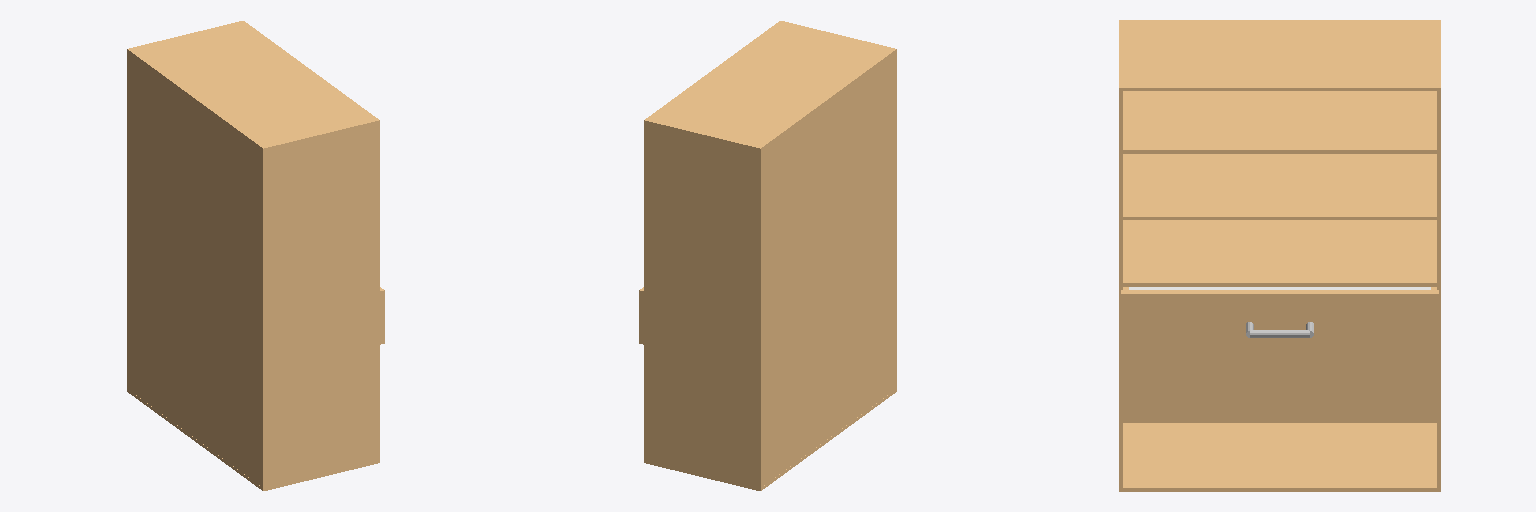
URDF robot description (room610-shelf2-1-robot):
<?xml version="1.0"?>
<robot name="room610-shelf2-1-robot"
       xmlns:xi="http://www.w3.org/2001/XInclude"
       >
  <gazebo>
    <static>false</static>
  </gazebo>
  <link name="ROOT_link">
    <visual>
      <origin xyz="0 0 0" rpy="0 -0 0"/>
      <geometry>
        <mesh filename="model://room610-shelf2-1/meshes/ROOT_link_mesh.dae" scale="1 1 1" />
      </geometry>
    </visual>
    <collision>
      <origin xyz="0 0 0" rpy="0 -0 0"/>
      <geometry>
        <mesh filename="model://room610-shelf2-1/meshes/ROOT_link_mesh.dae" scale="1 1 1" />
      </geometry>
    </collision>
    <inertial>
      <mass value="0.001" />
      <origin xyz="0 0 0" rpy="0 -0 0"/>
      <inertia ixx="1e-03" ixy="0" ixz="0" iyy="1e-03" iyz="0" izz="1e-03"/>
    </inertial>
  </link>
  <gazebo reference="ROOT_link">
    <mu1>0.9</mu1>
    <mu2>0.9</mu2>
  </gazebo>
  <link name="SHELF2-BODYSET6_link">
    <visual>
      <origin xyz="0.0055 0 0.175" rpy="0 -0 0"/>
      <geometry>
        <mesh filename="model://room610-shelf2-1/meshes/SHELF2-BODYSET6_link_mesh.dae" scale="1 1 1" />
      </geometry>
    </visual>
    <collision>
      <origin xyz="0.0055 0 0.175" rpy="0 -0 0"/>
      <geometry>
        <mesh filename="model://room610-shelf2-1/meshes/SHELF2-BODYSET6_link_mesh.dae" scale="1 1 1" />
      </geometry>
    </collision>
    <inertial>
      <mass value="0.001" />
      <origin xyz="0 0 0" rpy="0 -0 0"/>
      <inertia ixx="1e-03" ixy="0" ixz="0" iyy="1e-03" iyz="0" izz="1e-03"/>
    </inertial>
  </link>
  <gazebo reference="SHELF2-BODYSET6_link">
    <mu1>0.9</mu1>
    <mu2>0.9</mu2>
  </gazebo>
  <link name="SHELF2-BODYSET5_link">
    <visual>
      <origin xyz="0.0055 0 0.45625" rpy="0 -0 0"/>
      <geometry>
        <mesh filename="model://room610-shelf2-1/meshes/SHELF2-BODYSET5_link_mesh.dae" scale="1 1 1" />
      </geometry>
    </visual>
    <collision>
      <origin xyz="0.0055 0 0.45625" rpy="0 -0 0"/>
      <geometry>
        <mesh filename="model://room610-shelf2-1/meshes/SHELF2-BODYSET5_link_mesh.dae" scale="1 1 1" />
      </geometry>
    </collision>
    <inertial>
      <mass value="0.001" />
      <origin xyz="0 0 0" rpy="0 -0 0"/>
      <inertia ixx="1e-03" ixy="0" ixz="0" iyy="1e-03" iyz="0" izz="1e-03"/>
    </inertial>
  </link>
  <gazebo reference="SHELF2-BODYSET5_link">
    <mu1>0.9</mu1>
    <mu2>0.9</mu2>
  </gazebo>
  <link name="SHELF2-BODYSET4_link">
    <visual>
      <origin xyz="0.0055 0 0.63875" rpy="0 -0 0"/>
      <geometry>
        <mesh filename="model://room610-shelf2-1/meshes/SHELF2-BODYSET4_link_mesh.dae" scale="1 1 1" />
      </geometry>
    </visual>
    <collision>
      <origin xyz="0.0055 0 0.63875" rpy="0 -0 0"/>
      <geometry>
        <mesh filename="model://room610-shelf2-1/meshes/SHELF2-BODYSET4_link_mesh.dae" scale="1 1 1" />
      </geometry>
    </collision>
    <inertial>
      <mass value="0.001" />
      <origin xyz="0 0 0" rpy="0 -0 0"/>
      <inertia ixx="1e-03" ixy="0" ixz="0" iyy="1e-03" iyz="0" izz="1e-03"/>
    </inertial>
  </link>
  <gazebo reference="SHELF2-BODYSET4_link">
    <mu1>0.9</mu1>
    <mu2>0.9</mu2>
  </gazebo>
  <link name="SHELF2-BODYSET3_link">
    <visual>
      <origin xyz="0.0055 0 0.82125" rpy="0 -0 0"/>
      <geometry>
        <mesh filename="model://room610-shelf2-1/meshes/SHELF2-BODYSET3_link_mesh.dae" scale="1 1 1" />
      </geometry>
    </visual>
    <collision>
      <origin xyz="0.0055 0 0.82125" rpy="0 -0 0"/>
      <geometry>
        <mesh filename="model://room610-shelf2-1/meshes/SHELF2-BODYSET3_link_mesh.dae" scale="1 1 1" />
      </geometry>
    </collision>
    <inertial>
      <mass value="0.001" />
      <origin xyz="0 0 0" rpy="0 -0 0"/>
      <inertia ixx="1e-03" ixy="0" ixz="0" iyy="1e-03" iyz="0" izz="1e-03"/>
    </inertial>
  </link>
  <gazebo reference="SHELF2-BODYSET3_link">
    <mu1>0.9</mu1>
    <mu2>0.9</mu2>
  </gazebo>
  <link name="SHELF2-BODYSET2_link">
    <visual>
      <origin xyz="0.0055 0 1.00375" rpy="0 -0 0"/>
      <geometry>
        <mesh filename="model://room610-shelf2-1/meshes/SHELF2-BODYSET2_link_mesh.dae" scale="1 1 1" />
      </geometry>
    </visual>
    <collision>
      <origin xyz="0.0055 0 1.00375" rpy="0 -0 0"/>
      <geometry>
        <mesh filename="model://room610-shelf2-1/meshes/SHELF2-BODYSET2_link_mesh.dae" scale="1 1 1" />
      </geometry>
    </collision>
    <inertial>
      <mass value="0.001" />
      <origin xyz="0 0 0" rpy="0 -0 0"/>
      <inertia ixx="1e-03" ixy="0" ixz="0" iyy="1e-03" iyz="0" izz="1e-03"/>
    </inertial>
  </link>
  <gazebo reference="SHELF2-BODYSET2_link">
    <mu1>0.9</mu1>
    <mu2>0.9</mu2>
  </gazebo>
  <joint name="DRAWER0" type="prismatic">
    <parent link="ROOT_link"/>
    <child  link="SHELF2-BODYSET6_link"/>
    <origin xyz="0.0055 0 0.175" rpy="0 -0 0 "/>
    <axis   xyz="1 0 0"/>
    <limit lower="0" upper="0.405" effort="100" velocity="0.01" />
    <dynamics damping="0.2" friction="0" />
  </joint>
  <transmission type="pr2_mechanism_model/SimpleTransmission" name="DRAWER0_trans" >
    <actuator name="DRAWER0_motor" />
    <joint name="DRAWER0" />
    <mechanicalReduction>1</mechanicalReduction>
  </transmission>
  <gazebo reference="DRAWER0">
    <cfmDamping>0.4</cfmDamping>
  </gazebo>
  <joint name="DRAWER1" type="prismatic">
    <parent link="ROOT_link"/>
    <child  link="SHELF2-BODYSET5_link"/>
    <origin xyz="0.0055 0 0.45625" rpy="0 -0 0 "/>
    <axis   xyz="1 0 0"/>
    <limit lower="0" upper="0.405" effort="100" velocity="0.01" />
    <dynamics damping="0.2" friction="0" />
  </joint>
  <transmission type="pr2_mechanism_model/SimpleTransmission" name="DRAWER1_trans" >
    <actuator name="DRAWER1_motor" />
    <joint name="DRAWER1" />
    <mechanicalReduction>1</mechanicalReduction>
  </transmission>
  <gazebo reference="DRAWER1">
    <cfmDamping>0.4</cfmDamping>
  </gazebo>
  <joint name="DRAWER2" type="prismatic">
    <parent link="ROOT_link"/>
    <child  link="SHELF2-BODYSET4_link"/>
    <origin xyz="0.0055 0 0.63875" rpy="0 -0 0 "/>
    <axis   xyz="1 0 0"/>
    <limit lower="0" upper="0.405" effort="100" velocity="0.01" />
    <dynamics damping="0.2" friction="0" />
  </joint>
  <transmission type="pr2_mechanism_model/SimpleTransmission" name="DRAWER2_trans" >
    <actuator name="DRAWER2_motor" />
    <joint name="DRAWER2" />
    <mechanicalReduction>1</mechanicalReduction>
  </transmission>
  <gazebo reference="DRAWER2">
    <cfmDamping>0.4</cfmDamping>
  </gazebo>
  <joint name="DRAWER3" type="prismatic">
    <parent link="ROOT_link"/>
    <child  link="SHELF2-BODYSET3_link"/>
    <origin xyz="0.0055 0 0.82125" rpy="0 -0 0 "/>
    <axis   xyz="1 0 0"/>
    <limit lower="0" upper="0.405" effort="100" velocity="0.01" />
    <dynamics damping="0.2" friction="0" />
  </joint>
  <transmission type="pr2_mechanism_model/SimpleTransmission" name="DRAWER3_trans" >
    <actuator name="DRAWER3_motor" />
    <joint name="DRAWER3" />
    <mechanicalReduction>1</mechanicalReduction>
  </transmission>
  <gazebo reference="DRAWER3">
    <cfmDamping>0.4</cfmDamping>
  </gazebo>
  <joint name="DRAWER4" type="prismatic">
    <parent link="ROOT_link"/>
    <child  link="SHELF2-BODYSET2_link"/>
    <origin xyz="0.0055 0 1.00375" rpy="0 -0 0 "/>
    <axis   xyz="1 0 0"/>
    <limit lower="0" upper="0.405" effort="100" velocity="0.01" />
    <dynamics damping="0.2" friction="0" />
  </joint>
  <transmission type="pr2_mechanism_model/SimpleTransmission" name="DRAWER4_trans" >
    <actuator name="DRAWER4_motor" />
    <joint name="DRAWER4" />
    <mechanicalReduction>1</mechanicalReduction>
  </transmission>
  <gazebo reference="DRAWER4">
    <cfmDamping>0.4</cfmDamping>
  </gazebo>
</robot>

--- What the picture shows (computed from the rendered views, not written in the file) ---
The picture shows the robot from 3 angles, left to right: view 1: azimuth 30°, elevation 25°; view 2: azimuth 150°, elevation 25°; view 3: azimuth 270°, elevation 25°; orthographic projection.
Model room610-shelf2-1-robot with 6 links and 5 joints (5 prismatic), rooted at ROOT_link, posed all joints at 0.
Visible links, largest first — view 1: ROOT_link; view 2: ROOT_link; view 3: ROOT_link, SHELF2-BODYSET5_link.
Boxes of the visible links, x1,y1,x2,y2 form: ROOT_link: [127, 21, 379, 490]; ROOT_link: [644, 21, 896, 490]; ROOT_link: [1119, 20, 1440, 491]; SHELF2-BODYSET5_link: [1121, 287, 1438, 356].
Size in the robot's own frame: 0.475 by 0.8 by 1.11 metres.
Meshes: 6 distinct files referenced, 2 mesh visuals loaded (2 Collada DAE); not drawn: 4 (reference not matched to a file when rendering).